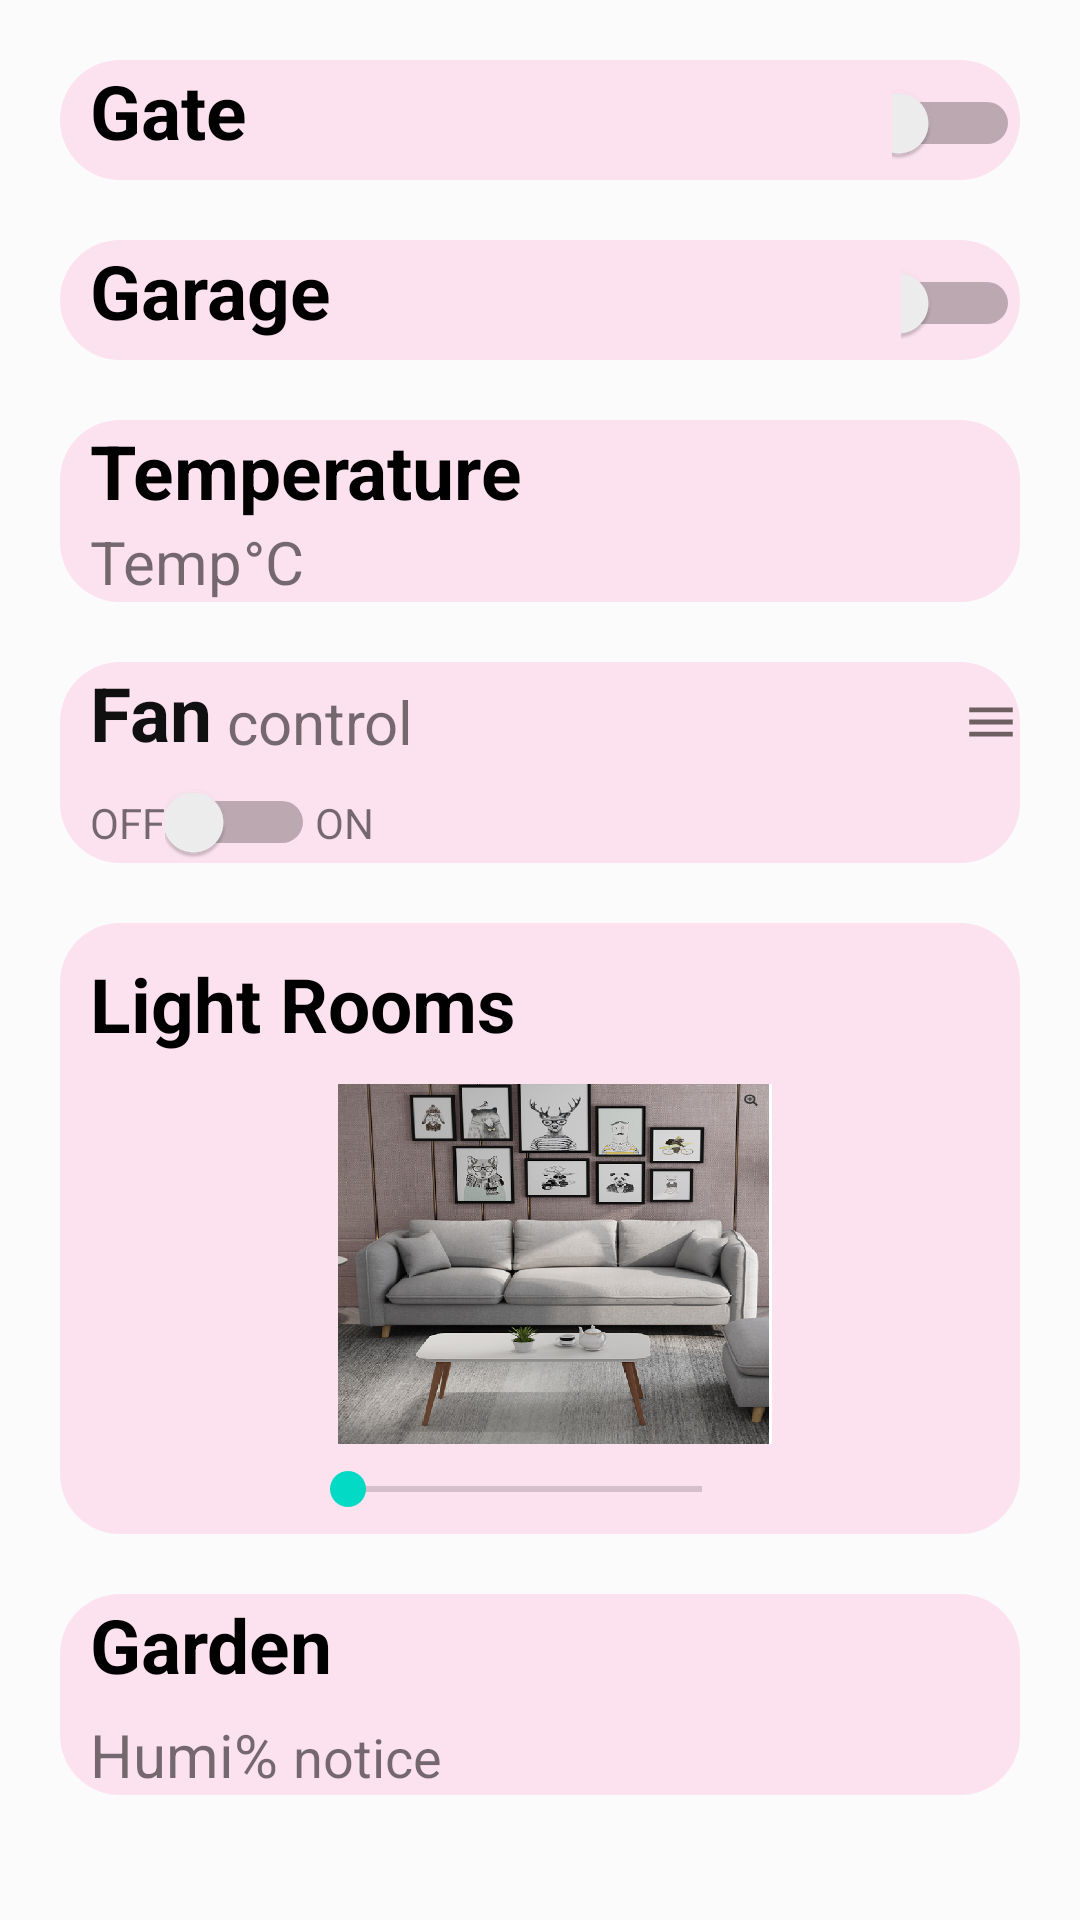

Screen size 1080 x 1920. Icon name, then its center in pixels as [x,y]:
menu: [991,722]
